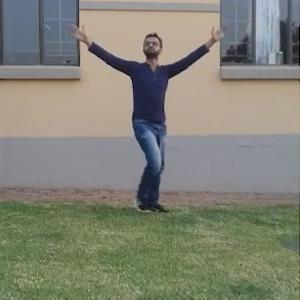takeoff: (75, 19, 238, 228)
